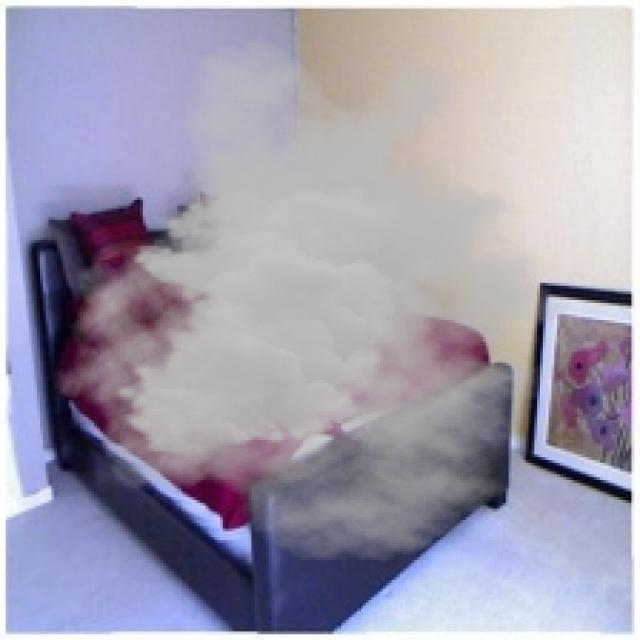Smoke: (54, 37, 603, 563)
